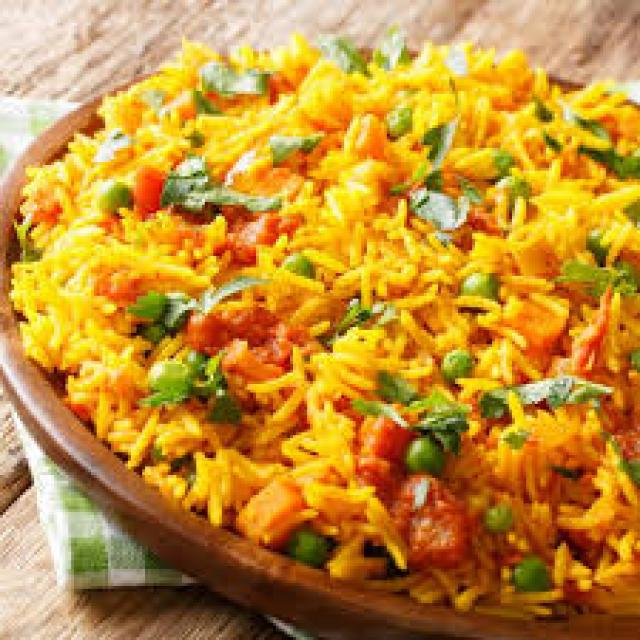organic waste: (14, 31, 637, 614), (190, 301, 313, 387), (486, 364, 634, 418), (156, 148, 268, 216), (128, 270, 265, 322), (392, 111, 470, 188), (353, 401, 418, 492), (205, 194, 310, 248), (387, 478, 452, 552), (578, 105, 637, 182), (554, 287, 608, 367), (401, 173, 472, 230), (327, 31, 421, 74), (555, 250, 637, 296), (188, 60, 270, 100), (600, 401, 637, 478), (358, 361, 424, 404), (134, 162, 176, 219), (179, 74, 228, 119), (288, 524, 342, 564), (503, 546, 549, 592), (94, 176, 136, 225), (398, 432, 449, 472), (381, 102, 421, 151), (142, 358, 191, 396), (458, 264, 503, 304), (256, 128, 316, 156), (469, 498, 512, 529), (441, 350, 475, 378)
